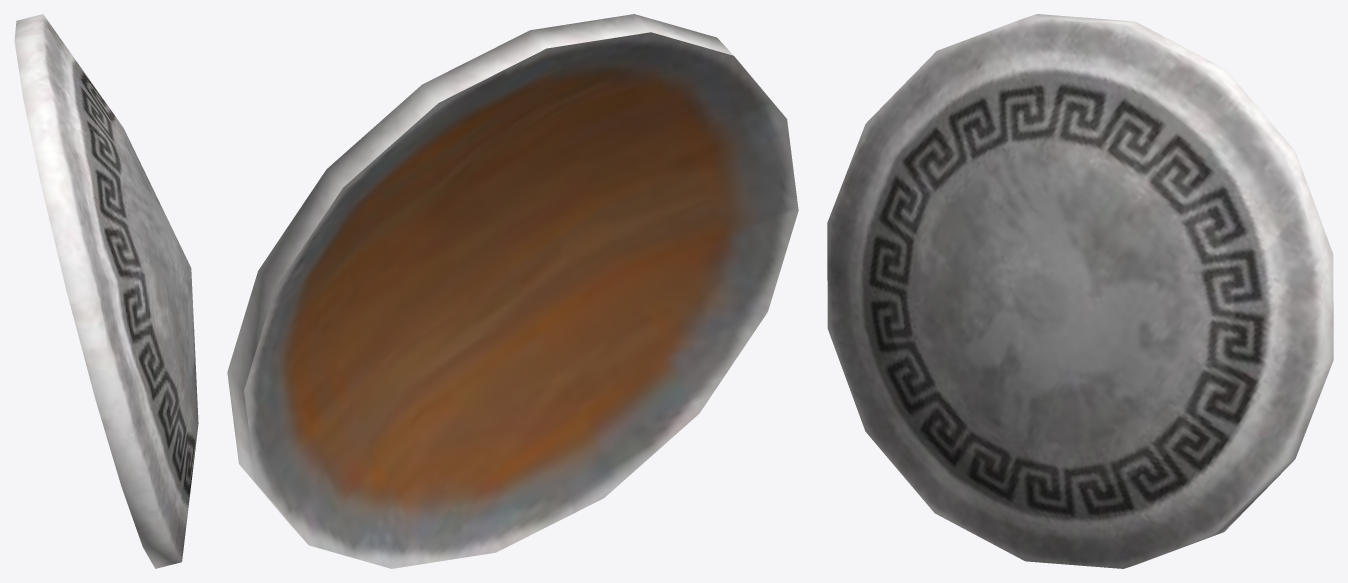
Rendered from shield-ironshields.glb.
The picture shows the model from 3 angles, left to right: view 1: azimuth 30°, elevation 25°; view 2: azimuth 150°, elevation 25°; view 3: azimuth 270°, elevation 25°; orthographic projection. The views are drawn at different scales.
Bounding box in the file's own units: 0.4744 × 0.8431 × 0.7787.
Materials: 1 (1 with a texture image).
